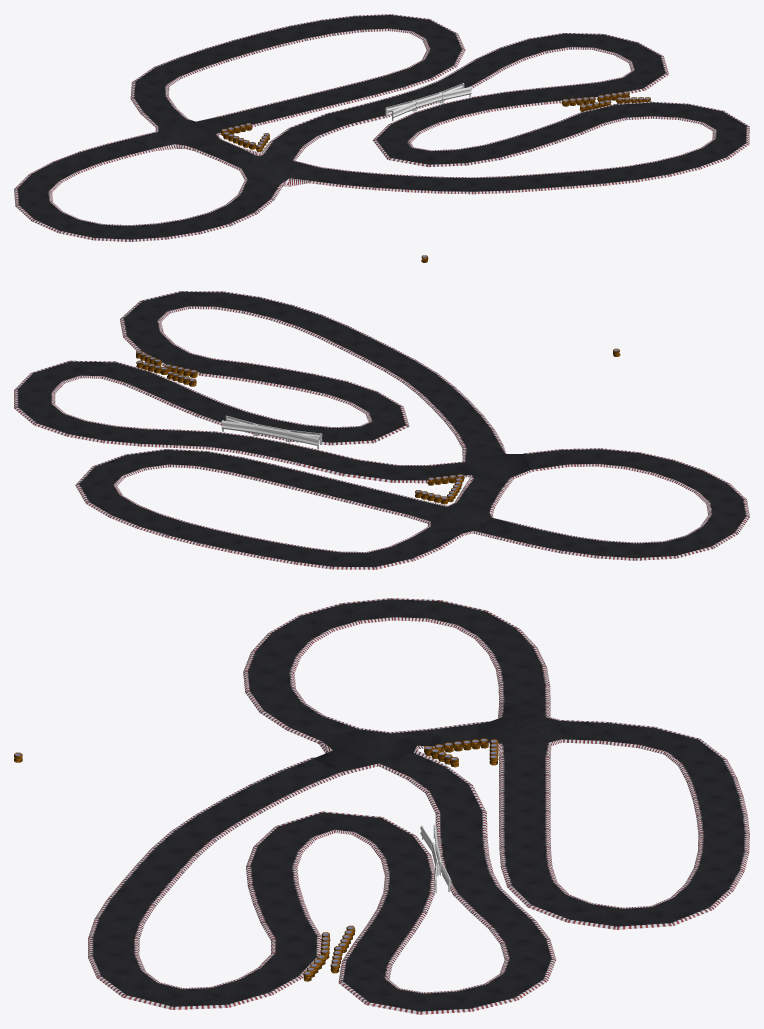
The model's file is RaceTrack.fbx.
3 views of the same model, one above another, from view 1: azimuth 30°, elevation 25°; view 2: azimuth 150°, elevation 25°; view 3: azimuth 270°, elevation 25° (orthographic). The views are drawn at different scales.
Visible parts, largest first — view 1: Plane.002, Plane.005, Plane.007, Plane.008, Plane.009, Plane.010, Plane.004, Plane.003, Plane.006; view 2: Plane.005, Plane.002, Plane.007, Plane.008, Plane.009, Plane.010, Plane.003, Plane.004, Plane.006; view 3: Plane.005, Plane.002, Plane.007, Plane.008, Plane.009, Plane.010, Plane.003, Plane.004, Plane.006.
Boxes of the visible parts, x1,y1,x2,y2 form: Plane.002: [14, 131, 282, 241]; Plane.005: [219, 14, 465, 127]; Plane.007: [457, 33, 668, 112]; Plane.008: [372, 97, 605, 167]; Plane.009: [581, 101, 749, 185]; Plane.010: [309, 167, 605, 194]; Plane.004: [155, 116, 321, 186]; Plane.003: [261, 70, 486, 160]; Plane.006: [130, 40, 253, 127]; Plane.005: [75, 449, 424, 552]; Plane.002: [473, 448, 749, 560]; Plane.007: [14, 360, 247, 447]; Plane.008: [201, 358, 409, 445]; Plane.009: [120, 291, 347, 375]; Plane.010: [318, 325, 503, 448]; Plane.003: [176, 429, 467, 483]; Plane.004: [405, 444, 532, 535]; Plane.006: [230, 526, 463, 569]; Plane.005: [499, 757, 749, 929]; Plane.002: [243, 598, 550, 743]; Plane.007: [338, 891, 556, 1014]; Plane.008: [246, 811, 435, 940]; Plane.009: [88, 899, 321, 1009]; Plane.010: [107, 757, 343, 906]; Plane.003: [378, 749, 516, 912]; Plane.004: [312, 717, 562, 774]; Plane.006: [560, 720, 747, 816].
Size of the model in its own units: 46.13 by 1.14 by 34.48.
